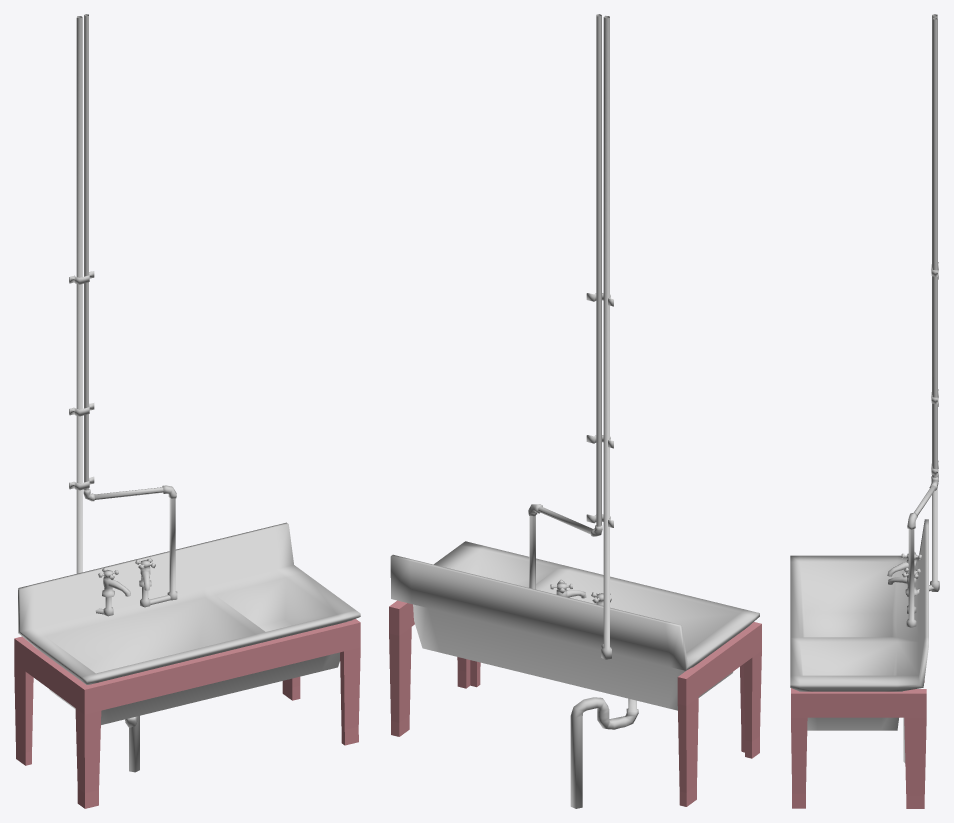
The model's file is KitchenSink.fbx.
3 renders of one model, left to right at view 1: azimuth 30°, elevation 25°; view 2: azimuth 150°, elevation 25°; view 3: azimuth 270°, elevation 25°, orthographic. The views are drawn at different scales.
Visible parts, largest first — view 1: Kitchen Sink; view 2: Kitchen Sink; view 3: Kitchen Sink.
Boxes of the visible parts, box(x1,y1,x2,y2) form: Kitchen Sink: box(14, 14, 360, 808); Kitchen Sink: box(389, 14, 761, 808); Kitchen Sink: box(790, 14, 939, 808).
Bounding box in the file's own units: 316 × 824 × 153.
